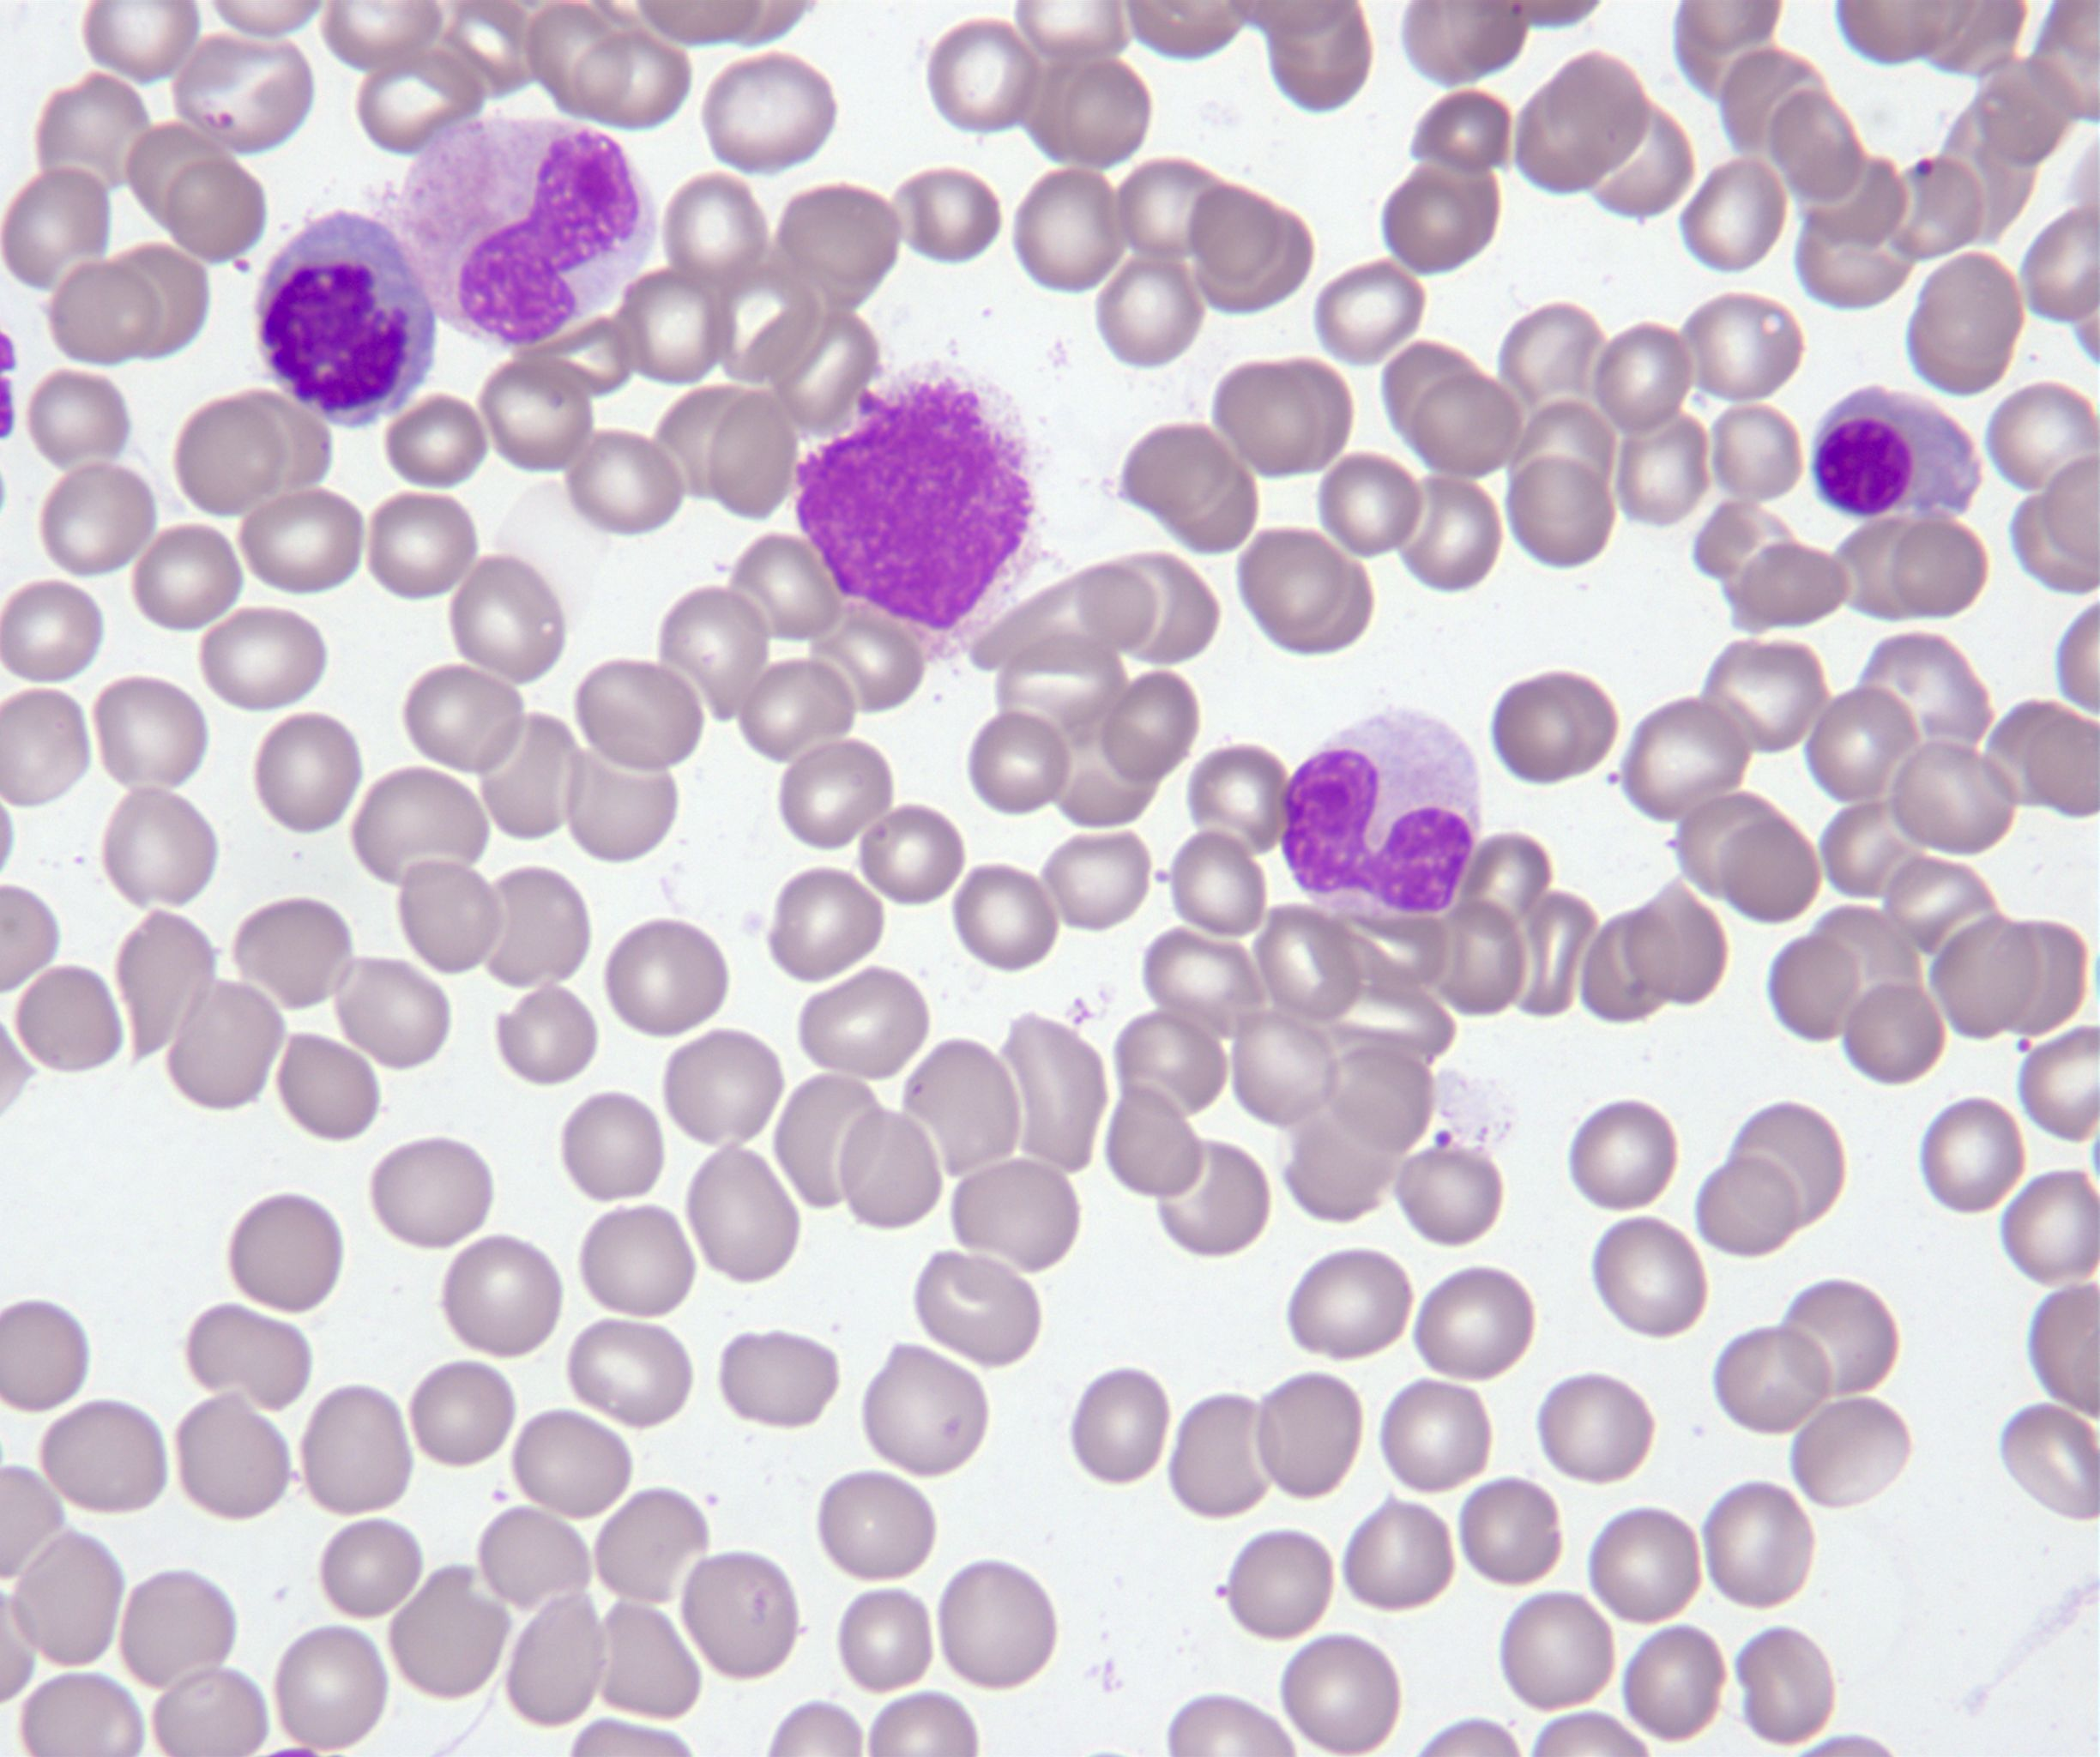24: (1802, 382, 1985, 530)
4: (391, 112, 663, 349), (1272, 705, 1490, 930)
x: (795, 368, 1043, 639), (253, 204, 441, 433)
